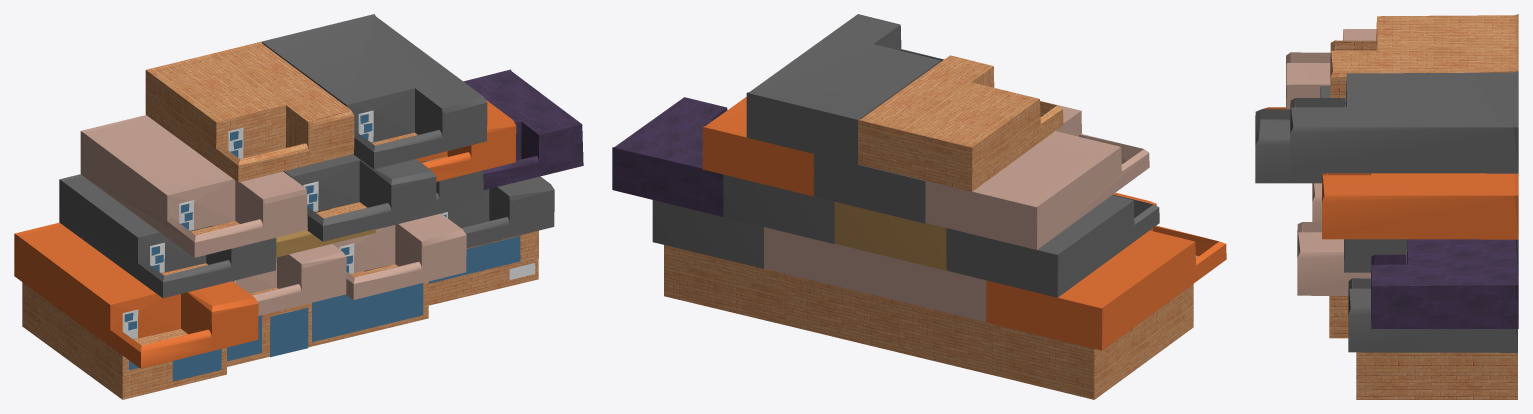
Rendered from Rumah Susun.fbx.
The picture shows the model from 3 angles, left to right: view 1: azimuth 30°, elevation 25°; view 2: azimuth 150°, elevation 25°; view 3: azimuth 270°, elevation 25°; orthographic projection. The views are drawn at different scales.
Parts seen in each view (by area): view 1: Kota.004; view 2: Kota.004; view 3: Kota.004.
Part boxes in pixels (bbox=[...]): Kota.004: bbox=[14, 14, 583, 399]; Kota.004: bbox=[612, 14, 1226, 399]; Kota.004: bbox=[1255, 14, 1518, 399].
Size of the model in its own units: 69.74 by 30.49 by 31.53.
